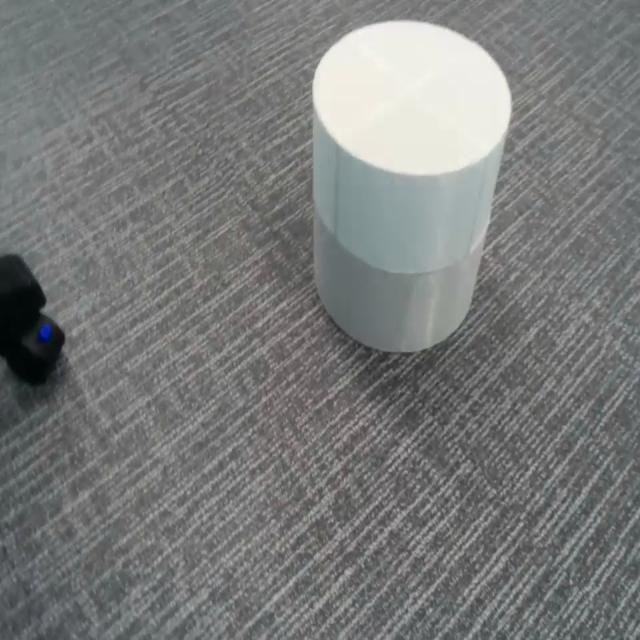cylinder: (312, 18, 513, 352)
